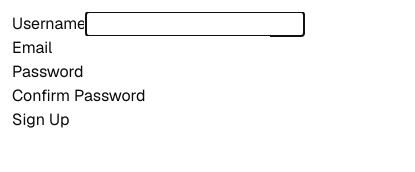
SignUpForm Username Validation › shows error when username missing uppercase letter
Type "alllowercase" into the field labelled "Username". click: x=195, y=24
box: [86,12,304,36]
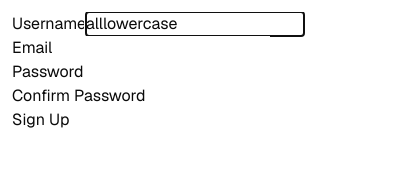
Type "user@example.com" into the field labelled "Email". click: x=161, y=48
box: [52,36,270,60]
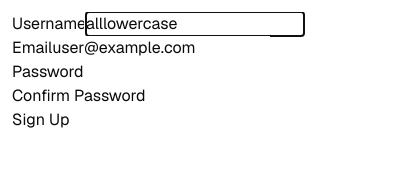
Type "ValidPass123!" into the password field labelled "Password". click: x=192, y=72
box: [84,60,302,84]
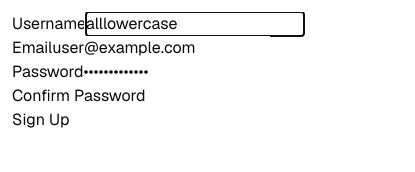
Type "ValidPass123!" into the password field labelled "Confirm Password". click: x=254, y=96
box: [146,84,364,108]
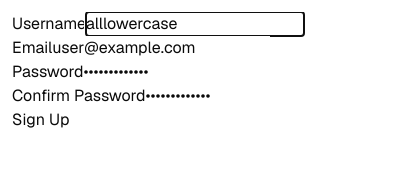
Click the button "Sign Up". click: x=41, y=120
box: [12,108,70,132]
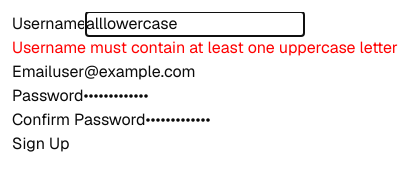
Result: the text with test id "username-error" shows "must contain at least one uppercase letter" at [12,37,398,58]
